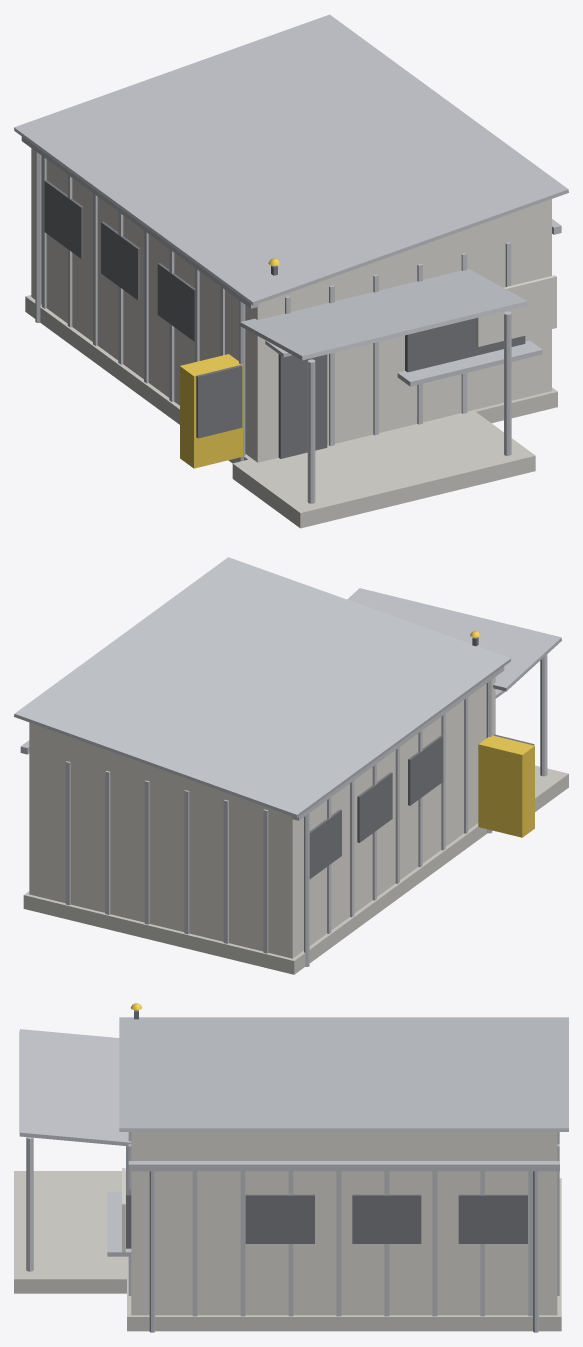
The model's file is ore-processing-and-haulage-plant-lamp-room-260e550f.glb.
3 renders of one model, top to bottom at view 1: azimuth 30°, elevation 25°; view 2: azimuth 150°, elevation 25°; view 3: azimuth 270°, elevation 25°, orthographic. The views are drawn at different scales.
Visible parts, largest first — view 1: lamp-room; view 2: lamp-room; view 3: lamp-room.
Boxes of the visible parts, x1,y1,x2,y2 form: lamp-room: (14, 14, 568, 528); lamp-room: (14, 557, 568, 974); lamp-room: (14, 1003, 568, 1332).
Bounding box in the file's own units: 7.32 × 4.27 × 10.42.
